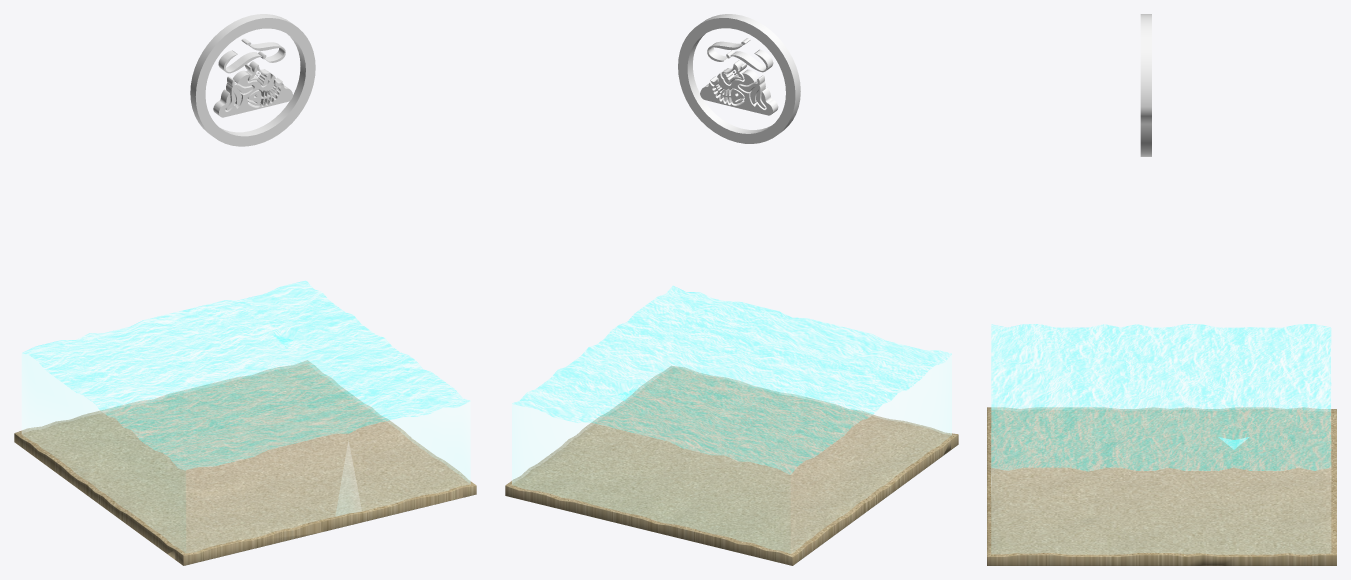
Rendered from water-lower-waste-trans2.glb.
3 renders of one model, left to right at view 1: azimuth 30°, elevation 25°; view 2: azimuth 150°, elevation 25°; view 3: azimuth 270°, elevation 25°, orthographic. The views are drawn at different scales.
Visible parts, largest first — view 1: Sand, Plane.002_1, Plane.002_0, Curve.041; view 2: Sand, Plane.002_1, Plane.002_0, Curve.041; view 3: Sand, Plane.002_1, Plane.002_0, Curve.041.
Part boxes in pixels (x1,y1,x2,y2): Sand: [14, 360, 476, 565]; Plane.002_1: [22, 280, 469, 470]; Plane.002_0: [21, 300, 470, 552]; Curve.041: [190, 14, 315, 146]; Sand: [505, 366, 958, 565]; Plane.002_1: [512, 286, 951, 474]; Plane.002_0: [512, 324, 951, 553]; Curve.041: [678, 14, 800, 143]; Sand: [987, 407, 1336, 565]; Plane.002_1: [991, 324, 1331, 471]; Plane.002_0: [991, 324, 1331, 554]; Curve.041: [1140, 14, 1151, 156].
Size of the model in its own units: 107 by 159 by 107.
Materials: 4 (2 with a texture image).
